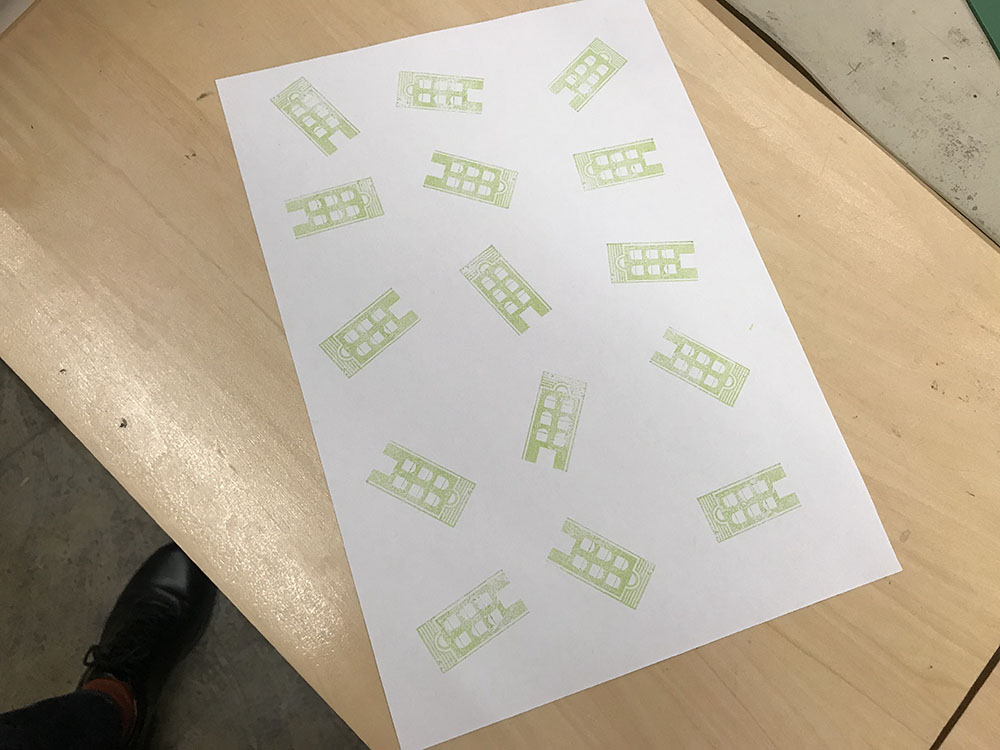build: (416, 548, 533, 693), (533, 508, 668, 623), (628, 312, 766, 421), (498, 356, 608, 492), (349, 436, 489, 541), (301, 284, 434, 388), (695, 447, 808, 567), (408, 133, 537, 220), (452, 242, 562, 343), (534, 29, 642, 125), (261, 71, 373, 162), (273, 174, 394, 247), (596, 223, 711, 297), (560, 132, 677, 200), (384, 62, 495, 125)
